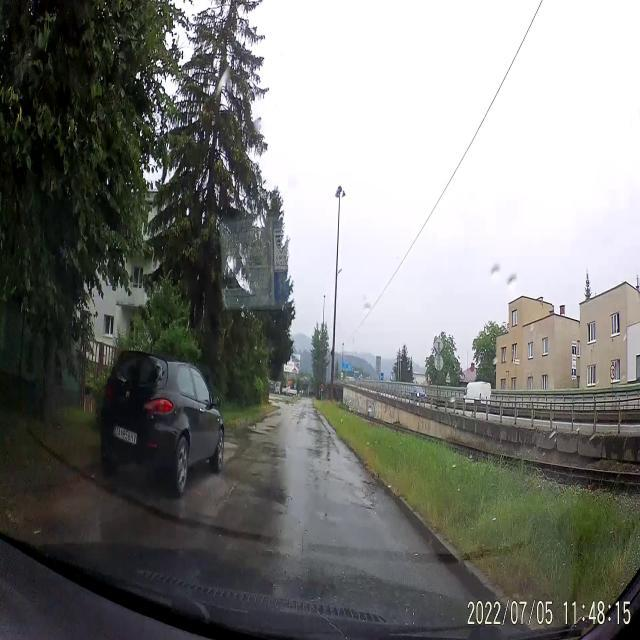Pothole: (354, 470, 382, 516), (252, 425, 278, 437), (306, 446, 324, 458), (294, 408, 306, 422)
